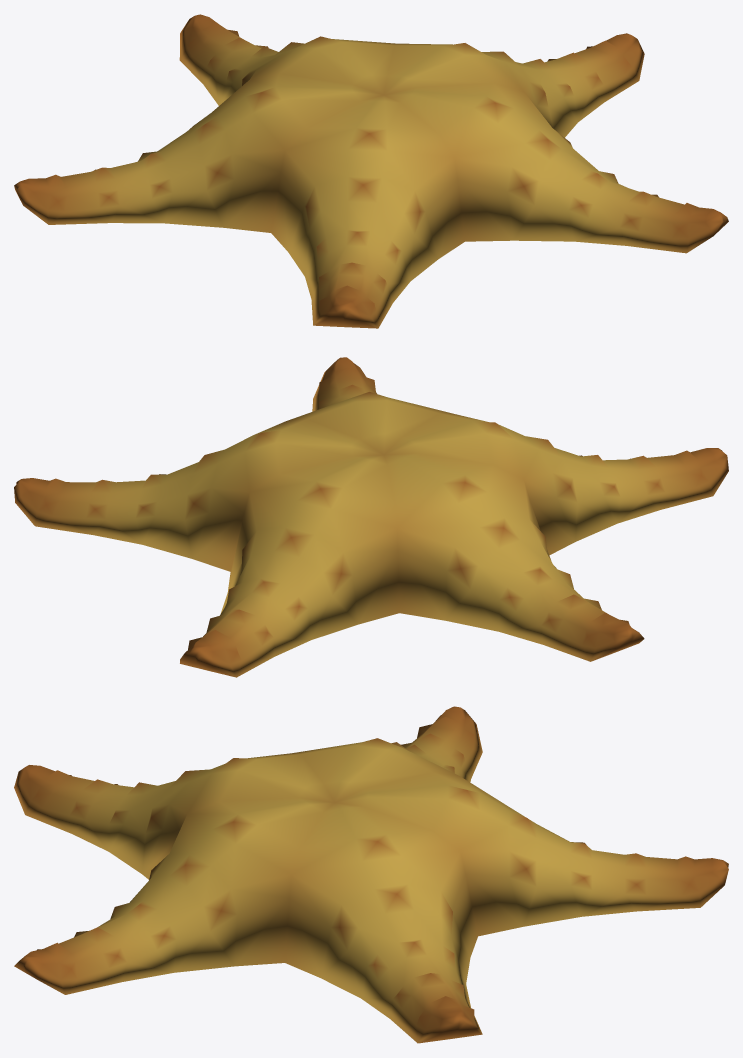
The picture shows the model from 3 angles, top to bottom: view 1: azimuth 30°, elevation 25°; view 2: azimuth 150°, elevation 25°; view 3: azimuth 270°, elevation 25°; orthographic projection. The views are drawn at different scales.
Parts seen in each view (by area): view 1: Starfish_Slide; view 2: Starfish_Slide; view 3: Starfish_Slide.
Part boxes in pixels (x1,y1,x2,y2): Starfish_Slide: (14, 14, 728, 328); Starfish_Slide: (14, 357, 728, 677); Starfish_Slide: (14, 706, 728, 1043).
Bounding box in the file's own units: 0.5 × 0.0766 × 0.4783.
